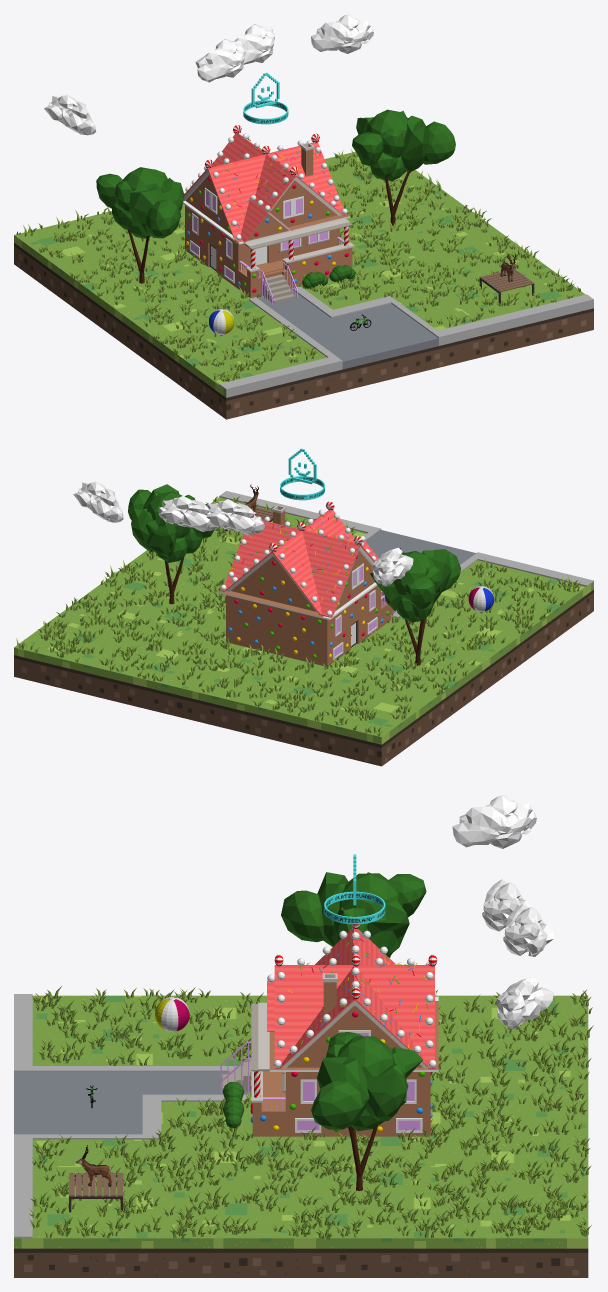
The picture shows the model from 3 angles, top to bottom: view 1: azimuth 30°, elevation 25°; view 2: azimuth 150°, elevation 25°; view 3: azimuth 270°, elevation 25°; orthographic projection. The views are drawn at different scales.
Visible parts, largest first — view 1: Cube.006, Cube.1203, Circle.012_Grass_0.192, Cube.007, tree, tree.001, TYPE_PREMIUM, Cube.009, OBJRANDOM_BEACHBALL; view 2: Cube.006, Cube.1203, Circle.012_Grass_0.192, Cube.007, tree.001, tree, TYPE_PREMIUM, OBJRANDOM_BEACHBALL; view 3: Cube.006, Circle.012_Grass_0.192, Cube.1203, tree, Cube.007, tree.001, Cube.009, TYPE_PREMIUM, OBJRANDOM_BEACHBALL.
Part boxes in pixels (left/top/right/bottom): Cube.006: left=14, top=151, right=593, bottom=419; Cube.1203: left=183, top=125, right=354, bottom=304; Circle.012_Grass_0.192: left=16, top=149, right=580, bottom=381; Cube.007: left=44, top=14, right=373, bottom=135; tree: left=352, top=109, right=455, bottom=225; tree.001: left=96, top=167, right=184, bottom=283; TYPE_PREMIUM: left=243, top=72, right=288, bottom=124; Cube.009: left=479, top=269, right=534, bottom=303; OBJRANDOM_BEACHBALL: left=209, top=309, right=234, bottom=334; Cube.006: left=14, top=491, right=593, bottom=766; Cube.1203: left=218, top=501, right=393, bottom=666; Circle.012_Grass_0.192: left=16, top=496, right=580, bottom=736; Cube.007: left=73, top=481, right=413, bottom=586; tree.001: left=370, top=549, right=460, bottom=665; tree: left=128, top=484, right=214, bottom=604; TYPE_PREMIUM: left=280, top=448, right=324, bottom=500; OBJRANDOM_BEACHBALL: left=468, top=586, right=494, bottom=611; Cube.006: left=14, top=994, right=588, bottom=1277; Circle.012_Grass_0.192: left=29, top=986, right=593, bottom=1239; Cube.1203: left=220, top=924, right=438, bottom=1136; tree: left=311, top=1032, right=422, bottom=1190; Cube.007: left=452, top=795, right=553, bottom=1029; tree.001: left=281, top=872, right=426, bottom=957; Cube.009: left=69, top=1172, right=122, bottom=1212; TYPE_PREMIUM: left=324, top=854, right=385, bottom=924; OBJRANDOM_BEACHBALL: left=155, top=997, right=189, bottom=1031.
Bounding box in the file's own units: 4071 × 2317 × 4040.
Materials: 44 (5 with a texture image).
